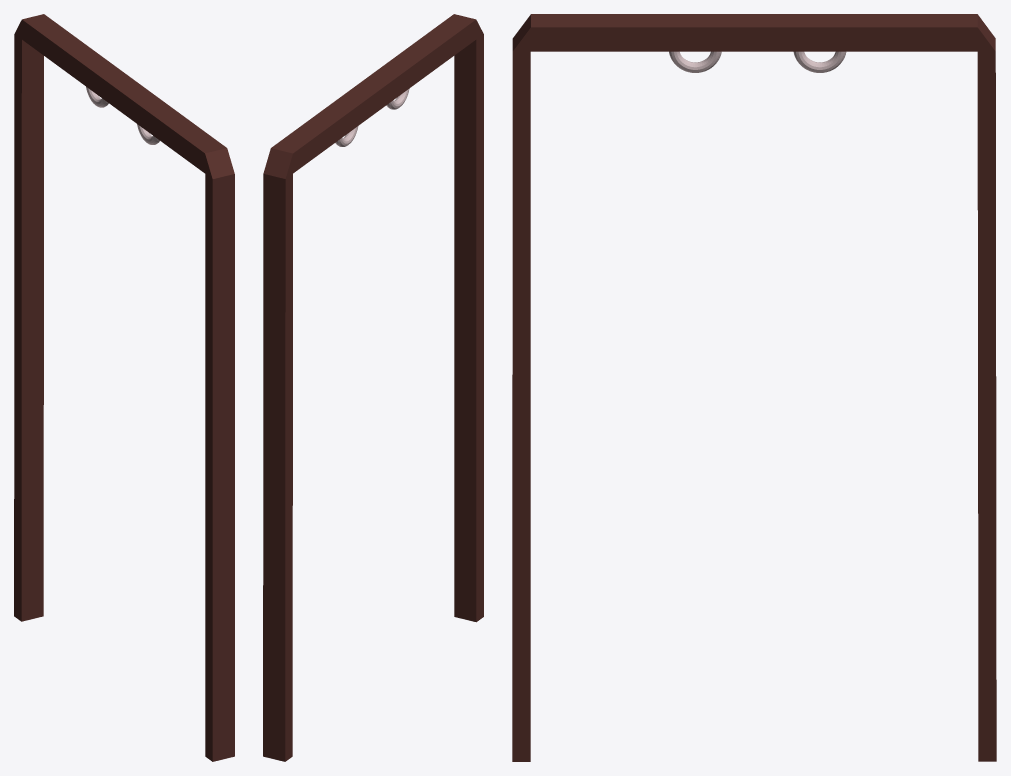
File: SCHAUKEL_STATISCH.fbx
3 views of the same model, side by side, from view 1: azimuth 30°, elevation 25°; view 2: azimuth 150°, elevation 25°; view 3: azimuth 270°, elevation 25° (orthographic). The views are drawn at different scales.
Parts seen in each view (by area): view 1: Cube; view 2: Cube; view 3: Cube.
Boxes of the visible parts, left/top/right/bottom form: Cube: left=14, top=14, right=234, bottom=761; Cube: left=263, top=14, right=483, bottom=761; Cube: left=512, top=14, right=996, bottom=761.
Size of the model in its own units: 32.77 by 508 by 851.
